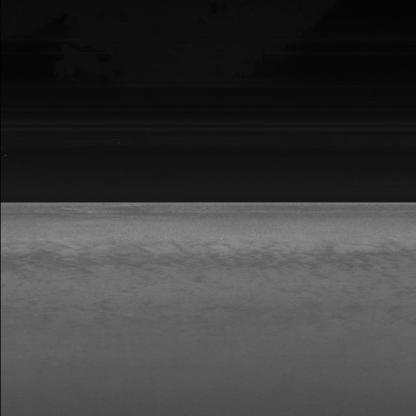silk_spot: (138, 228, 272, 278)
